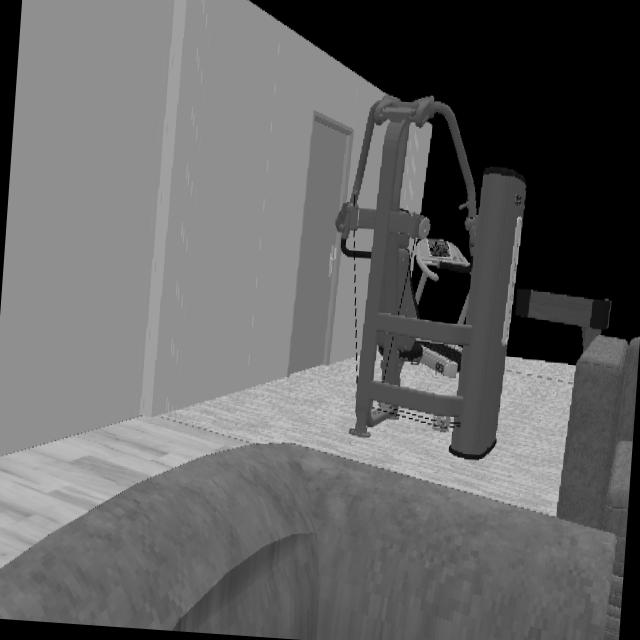sofa: (0, 337, 639, 640)
